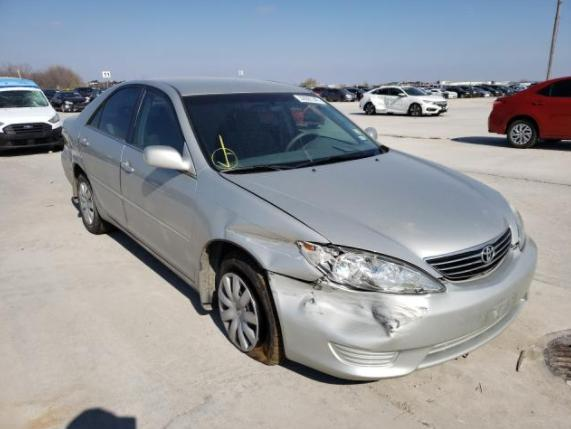Back-bumper: (61, 152, 75, 191)
Back-door: (78, 84, 144, 230)
Back-wheel: (76, 174, 116, 235)
Back-window: (89, 87, 142, 141)
Fender: (194, 166, 331, 297)
Front-bumper: (266, 234, 537, 380)
Front-door: (119, 85, 197, 283)
Front-wheel: (214, 250, 285, 366)
Front-window: (129, 89, 184, 157)
Grille: (423, 227, 511, 280)
Headlight: (297, 241, 448, 294), (506, 198, 525, 253)
Hood: (216, 144, 518, 281)
Mirror: (143, 141, 196, 174), (364, 127, 378, 143)
Quarter-panel: (61, 117, 90, 181)
Rocker-panel: (96, 204, 195, 289)
Roof: (115, 77, 312, 97)
Windshield: (179, 93, 384, 174)
